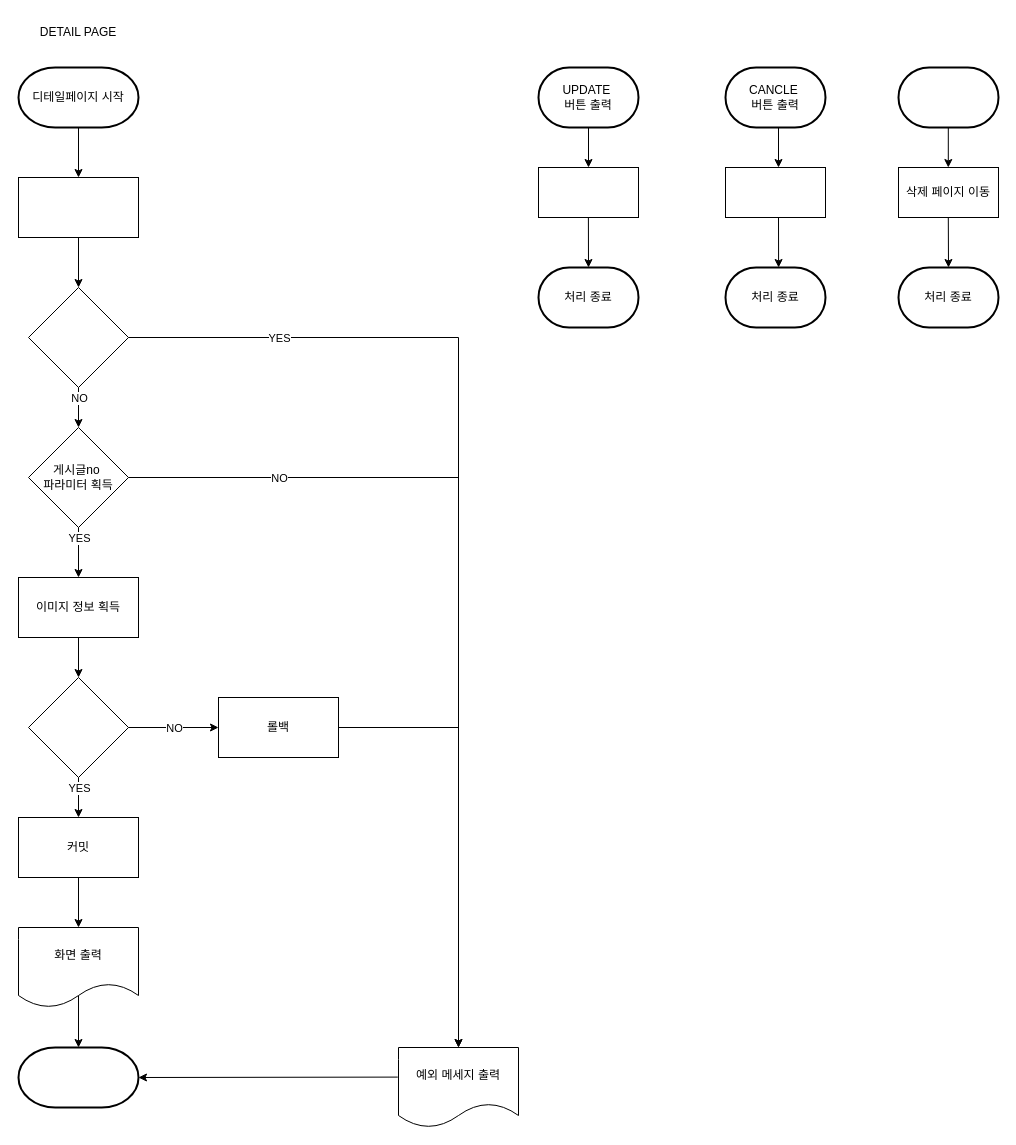
This 1016x1145 diagram has some shape labels left out. The shapes that lost their labels are listed below. From the top down, each one's centre as x and y in pixels, then its label:
the point at 948,97: DELETE 버튼 출력
the point at 78,207: DB 접속
the point at 588,192: 수정 페이지 이동
the point at 775,192: 리스트 페이지 이동
the point at 78,337: DB 접속 예외 발생
the point at 78,727: 수정처리 트랜젝션
the point at 78,1077: 디테일페이지 종료
